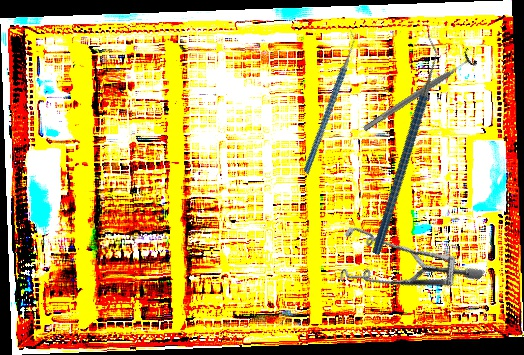Chopper: (306, 34, 502, 256), (261, 28, 396, 175)
Fixation Ring: (358, 47, 479, 138)
Speculum: (319, 184, 486, 349)
